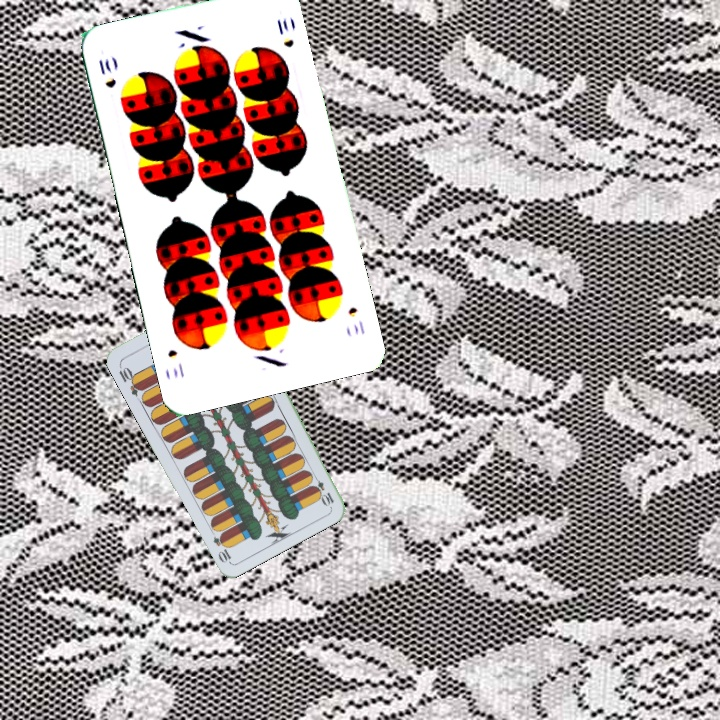E10: (115, 361, 146, 399), (308, 470, 337, 508)
S10: (94, 54, 119, 91), (344, 303, 368, 337)
